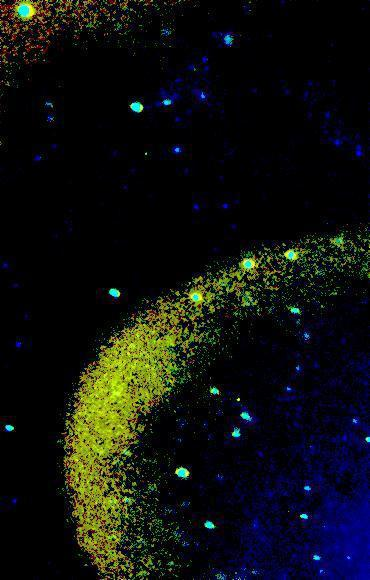star: (130, 141, 160, 171)
